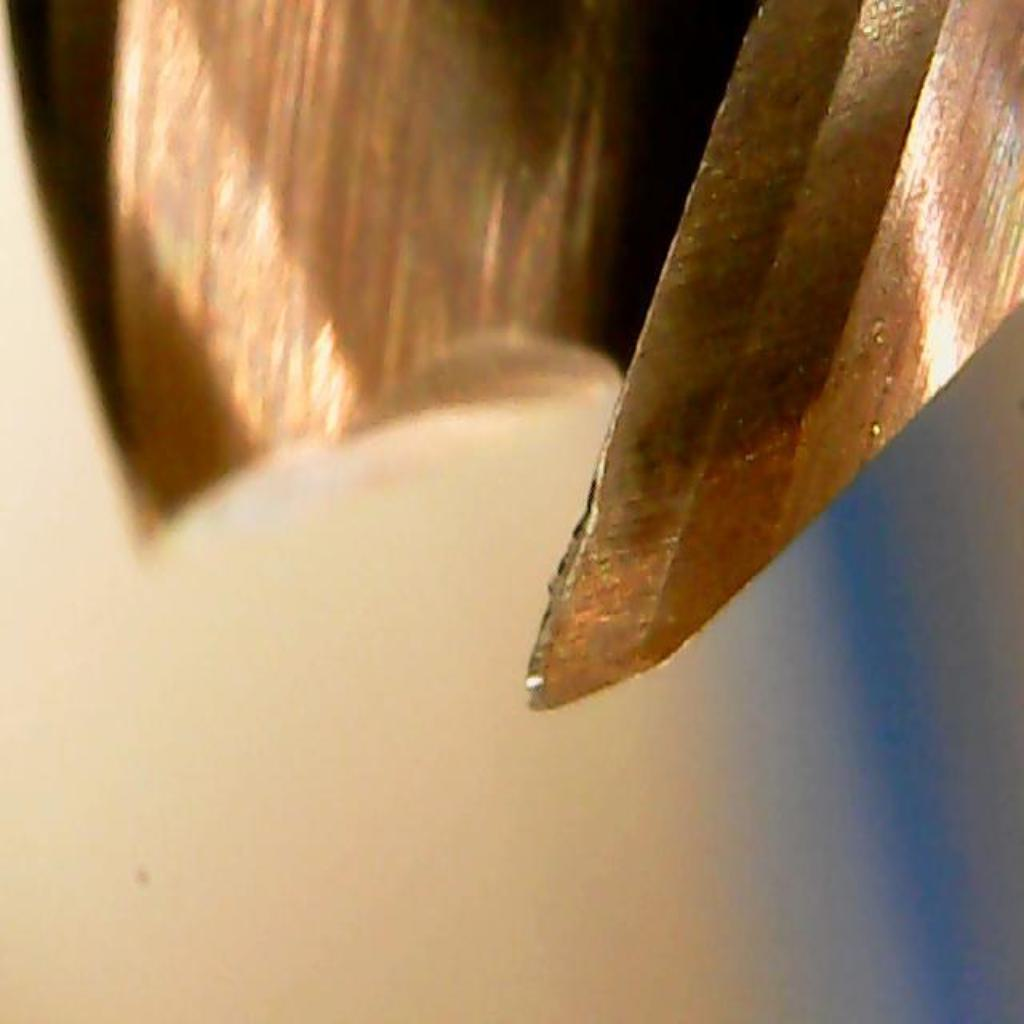Tool-wear-class-1: (498, 329, 797, 727)
